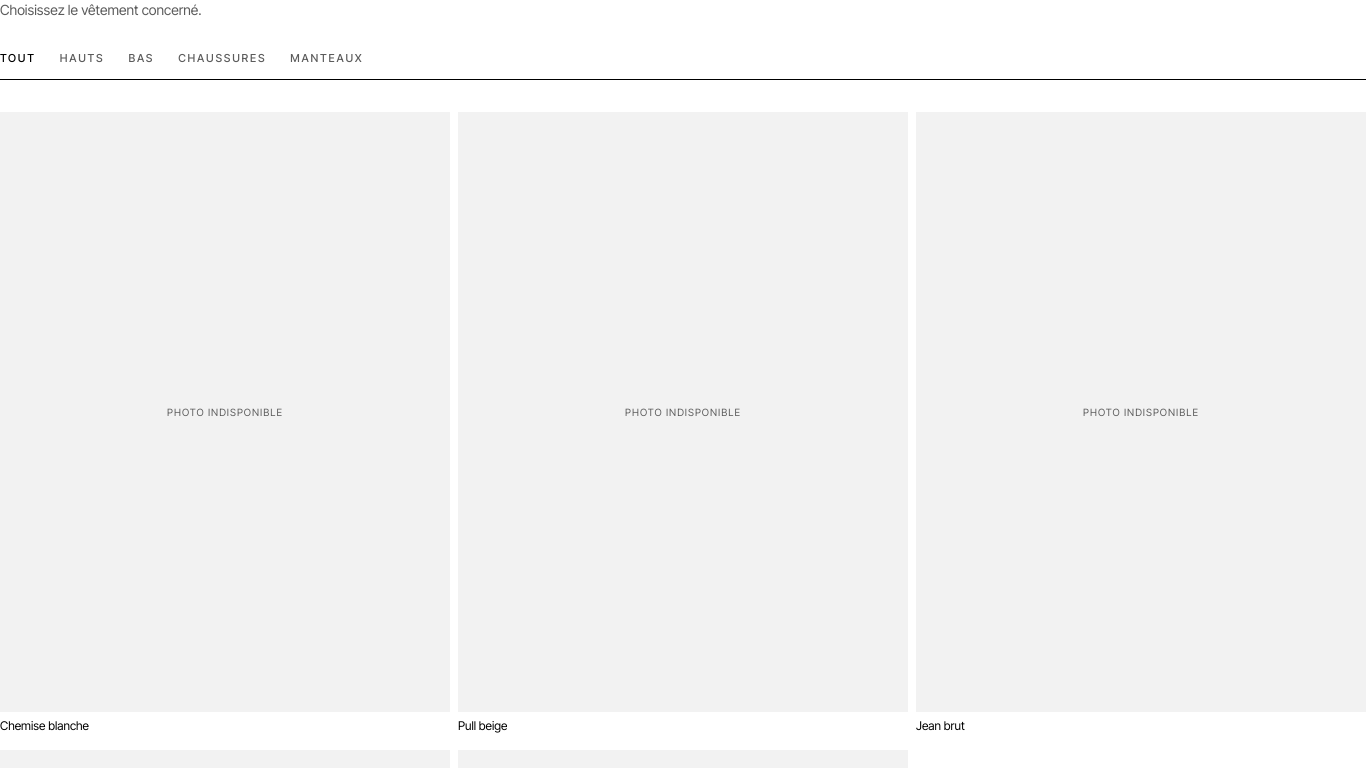
it: GarmentExclusionPicker › lets the user pick the first garment when none is given, filtered by category
Step 1. Click the button "Chaussures" → coordinates (222, 58), box [178, 36, 266, 80]
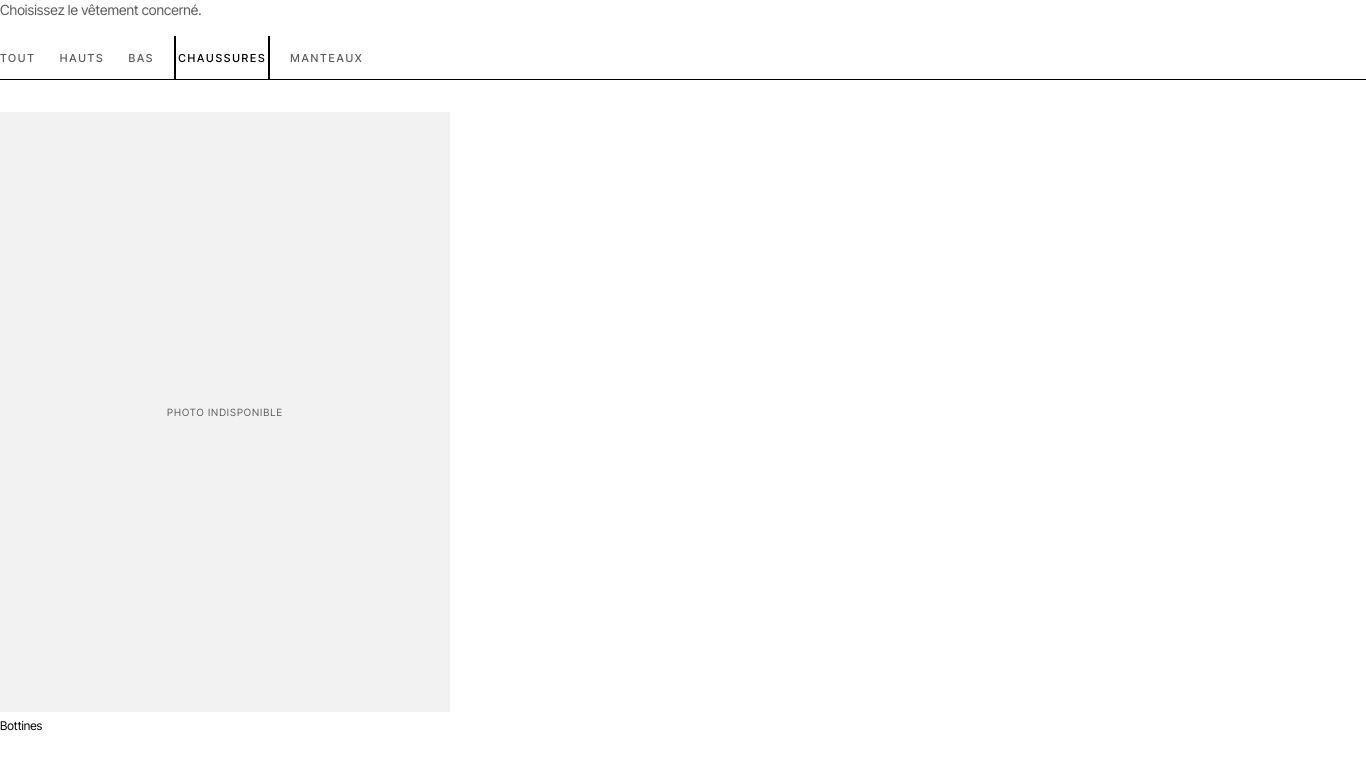
Check: the button "Chemise blanche" is gone
Step 2. Click the button "Photo indisponible Bottines" → coordinates (225, 423), box [0, 112, 450, 734]
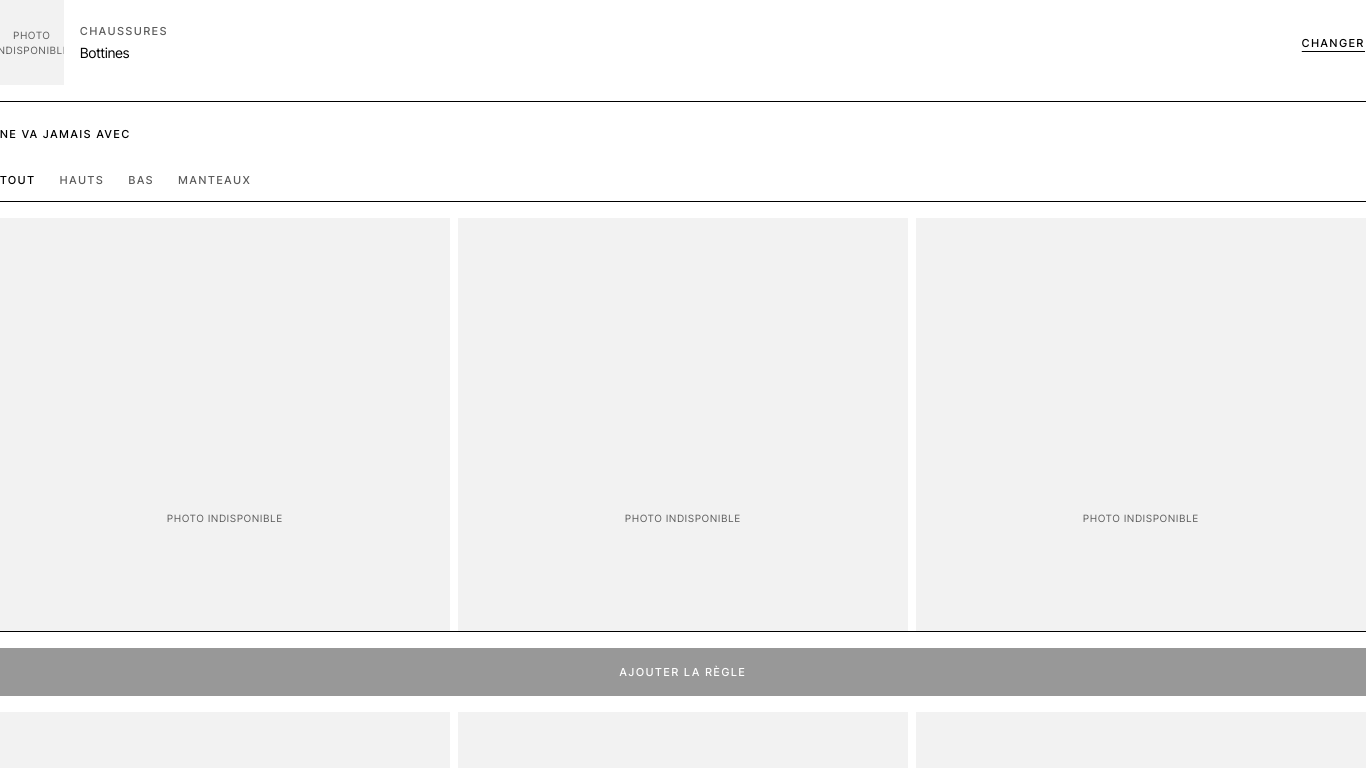
Check: the text "Ne va jamais avec" is shown, box [0, 127, 131, 141]
Step 3. Click the button "Changer" → coordinates (1333, 43), box [1301, 21, 1365, 65]
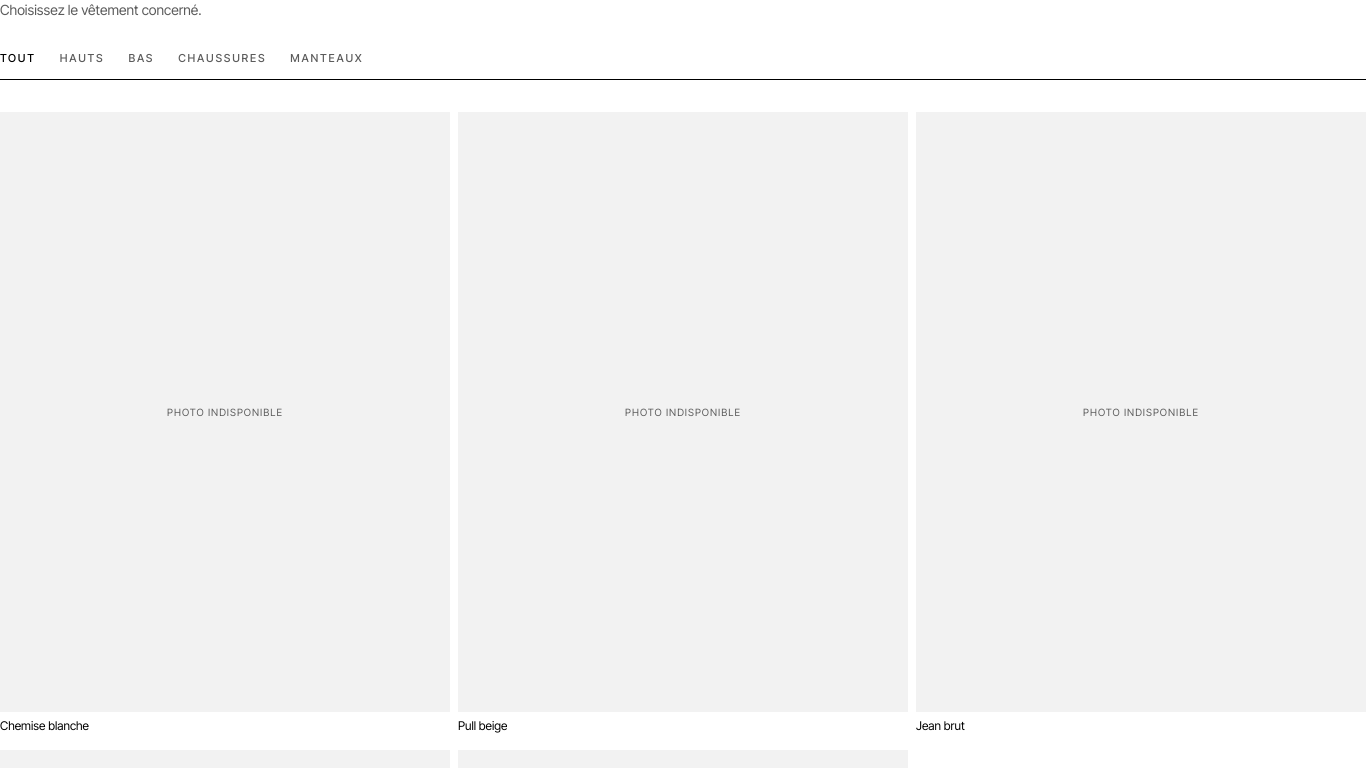
Check: the text "Choisissez le vêtement concerné." is shown, box [0, 1, 202, 18]
